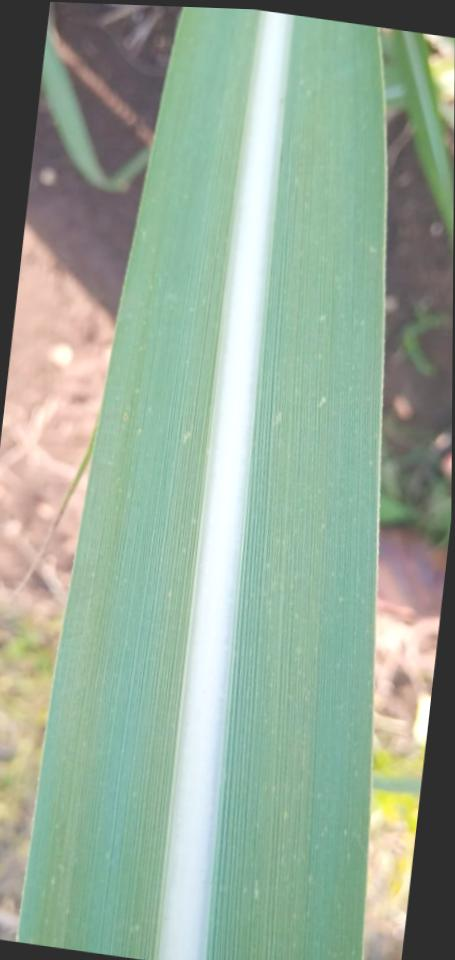Healthy: (18, 7, 259, 960), (207, 16, 386, 960)
